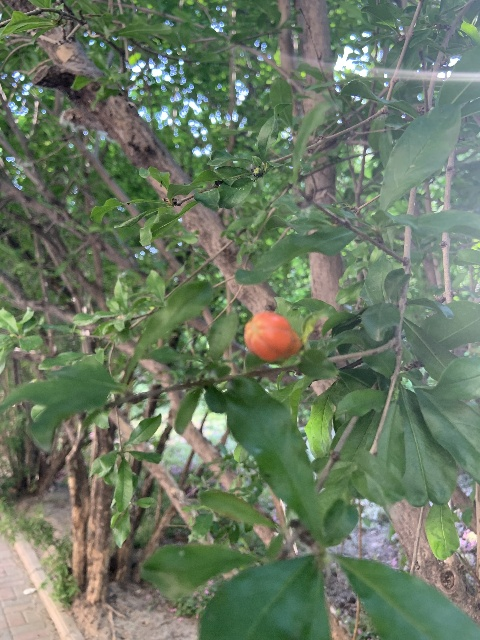bud: (244, 311, 301, 362)
